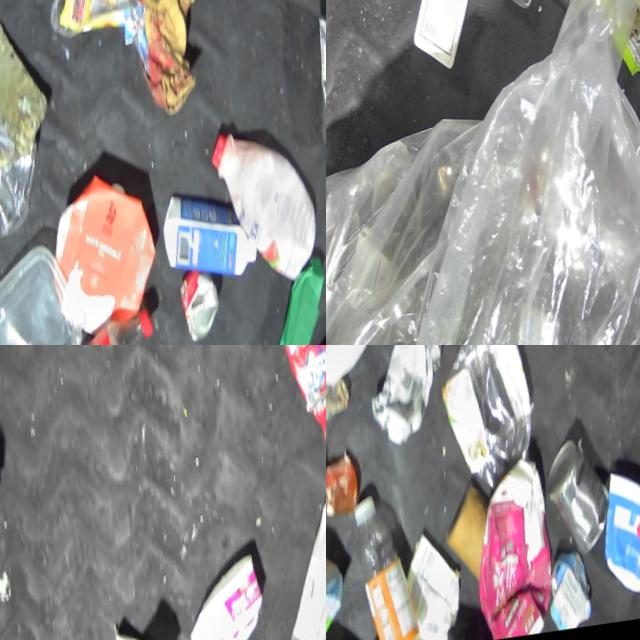can: (543, 434, 630, 562), (271, 345, 326, 473), (183, 266, 238, 345)
milk_jug: (270, 491, 326, 640), (395, 0, 507, 74)
non_white_jug: (47, 164, 182, 333), (205, 116, 326, 290), (466, 455, 577, 640), (435, 345, 555, 495), (162, 183, 273, 286)
plastic_bottle: (350, 490, 444, 640), (54, 308, 174, 345)
